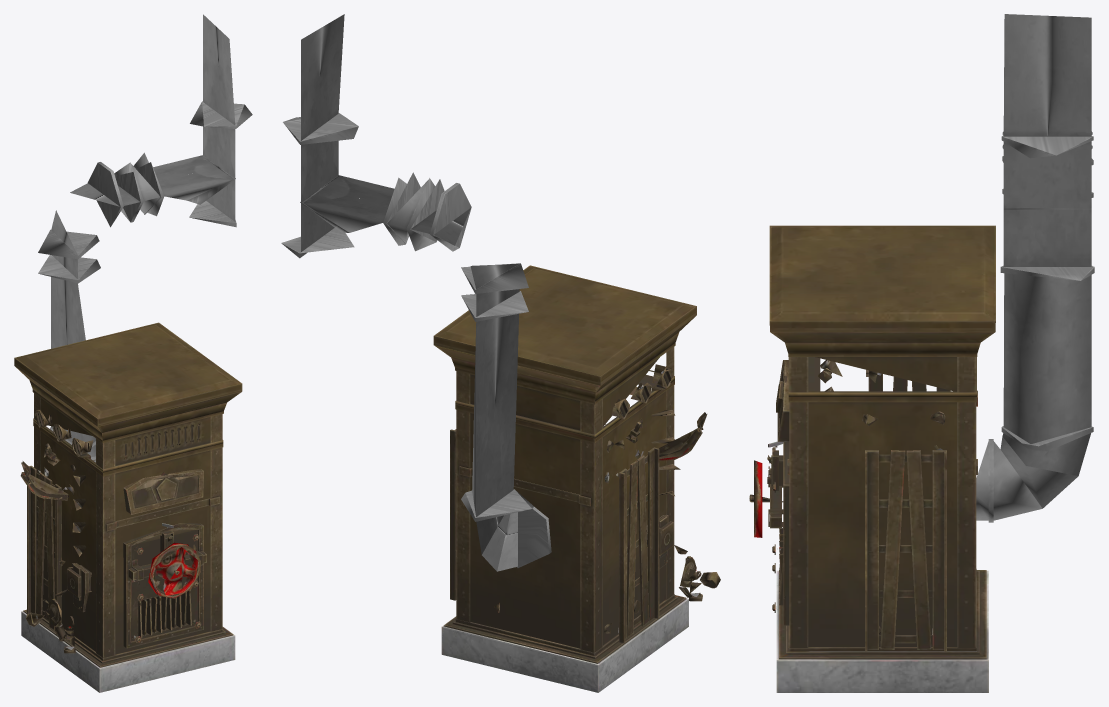
File: boiler.glb
The picture shows the model from 3 angles, left to right: view 1: azimuth 30°, elevation 25°; view 2: azimuth 150°, elevation 25°; view 3: azimuth 270°, elevation 25°; orthographic projection. The views are drawn at different scales.
Parts seen in each view (by area): view 1: Body_Detail_0, Body_Body_0, Exhaust_Exhaust_0; view 2: Body_Body_0, Exhaust_Exhaust_0, Body_Detail_0; view 3: Body_Body_0, Exhaust_Exhaust_0, Body_Detail_0.
Part boxes in pixels (left/top/right/bottom): Body_Detail_0: left=20, top=393, right=235, bottom=692; Body_Body_0: left=14, top=322, right=242, bottom=654; Exhaust_Exhaust_0: left=38, top=14, right=252, bottom=462; Body_Body_0: left=433, top=265, right=696, bottom=648; Exhaust_Exhaust_0: left=281, top=14, right=551, bottom=571; Body_Detail_0: left=441, top=347, right=720, bottom=692; Body_Body_0: left=769, top=225, right=995, bottom=646; Exhaust_Exhaust_0: left=976, top=14, right=1094, bottom=522; Body_Detail_0: left=749, top=357, right=988, bottom=692.
Size of the model in its own units: 1.44 by 2.5 by 1.07.
Materials: 3 (3 with a texture image).
